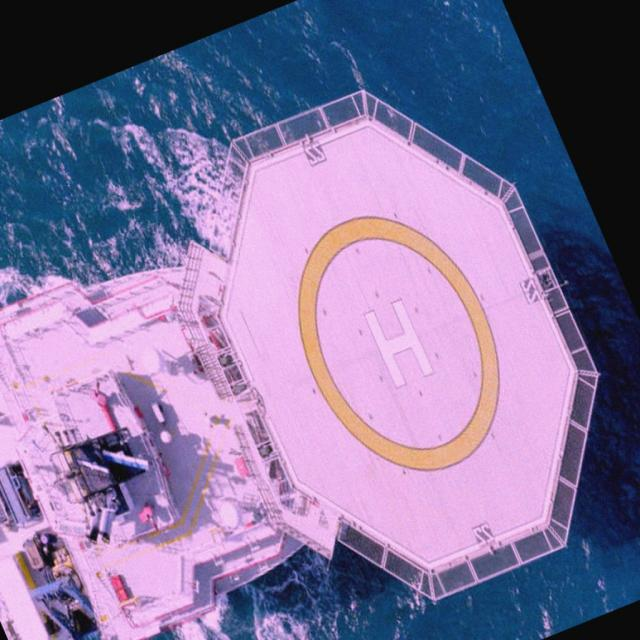helipad: (292, 210, 504, 475)
